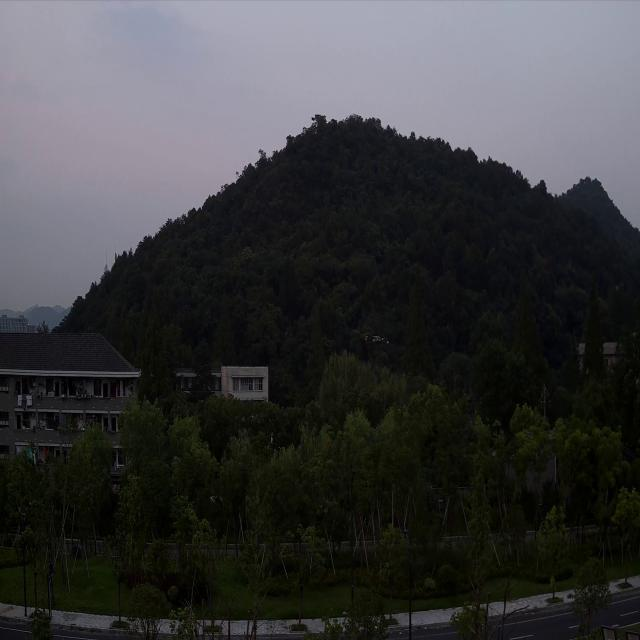UAV: (364, 333, 391, 346)
